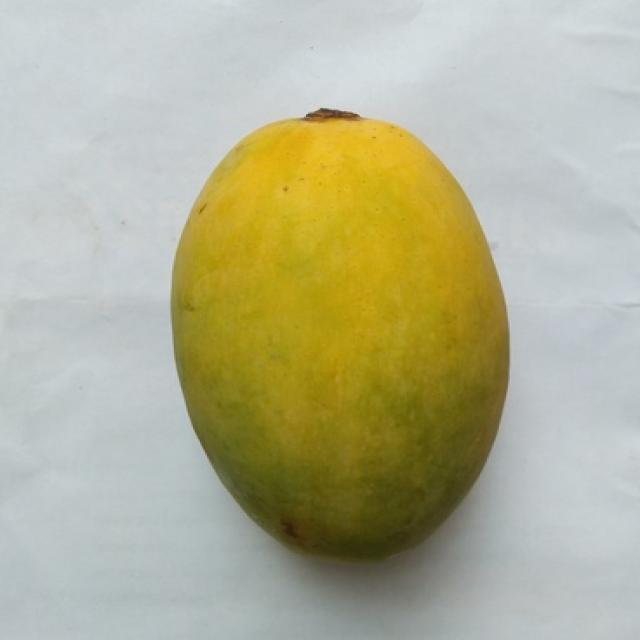Mango: (172, 110, 508, 557)
